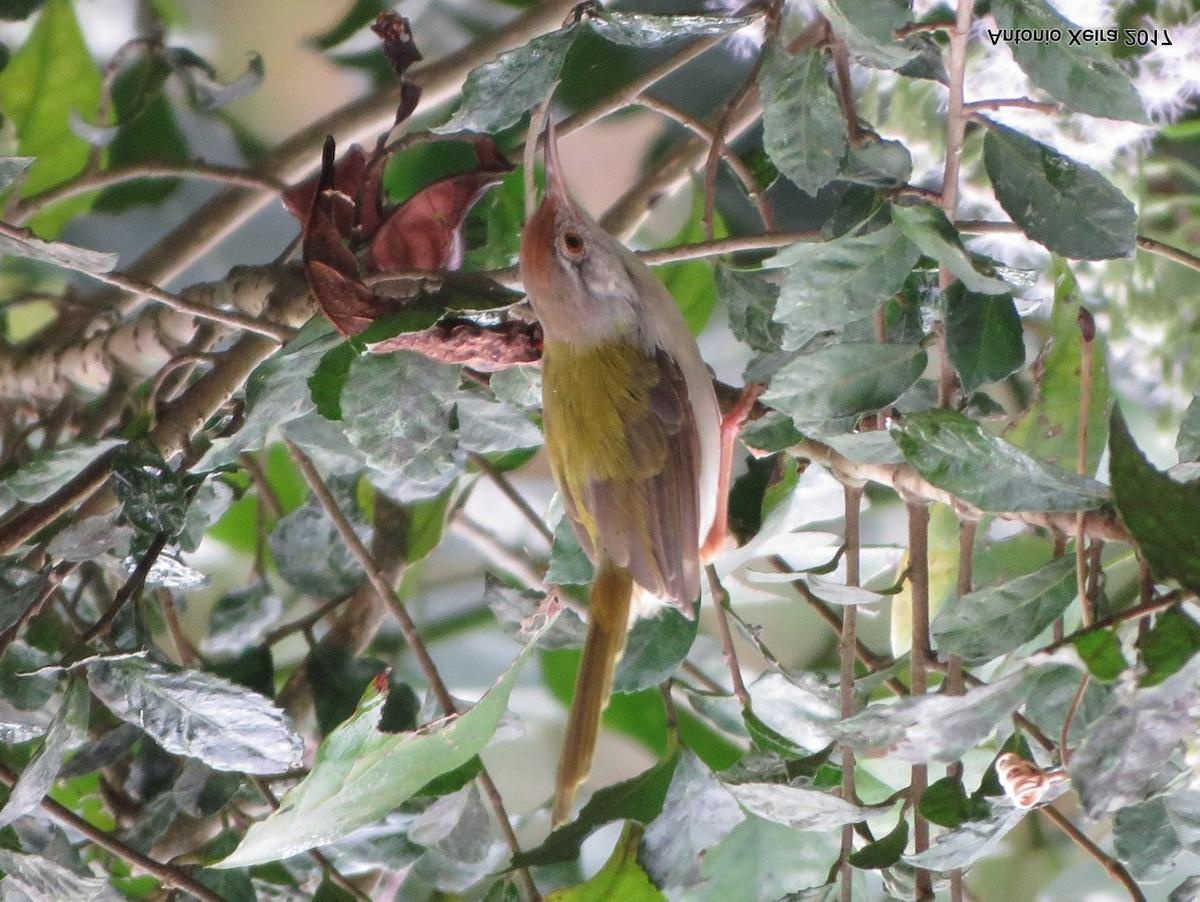tailorbird: (469, 123, 780, 826)
